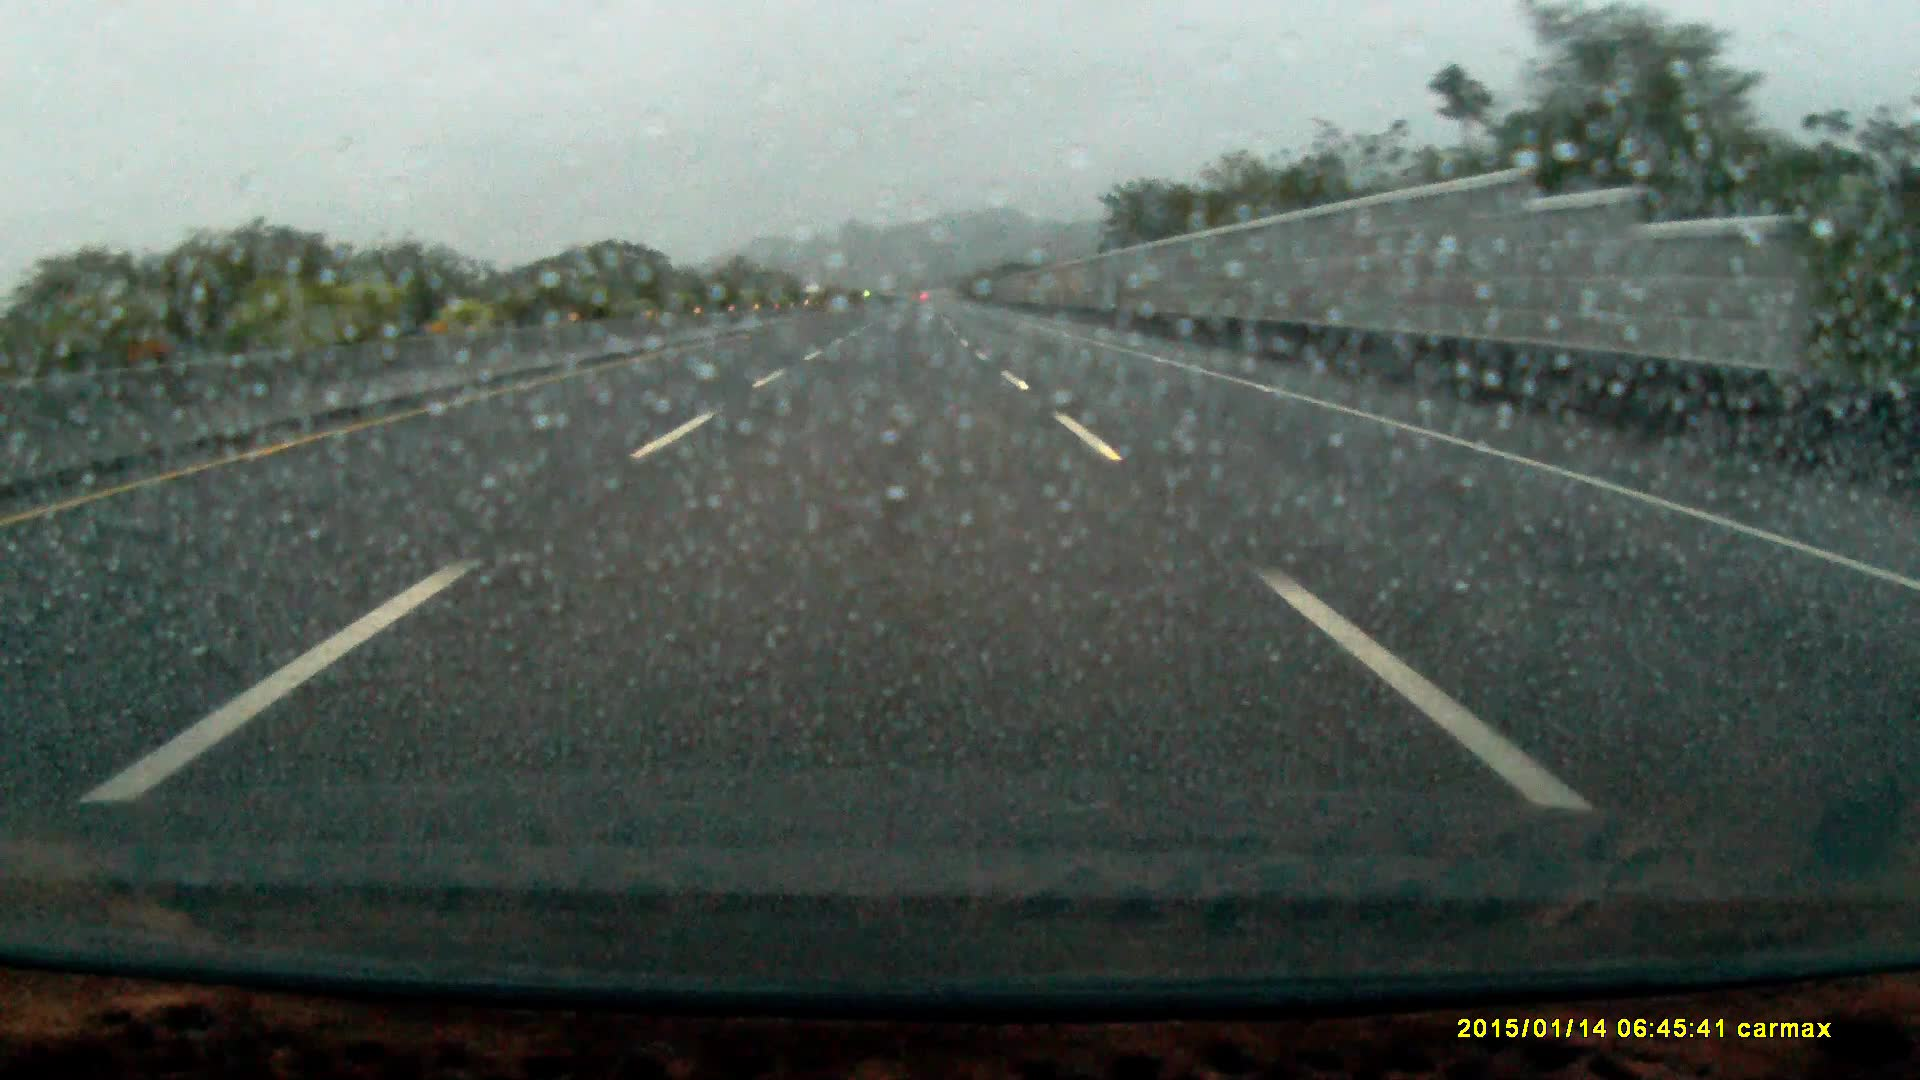vehicle: (803, 286, 825, 309)
